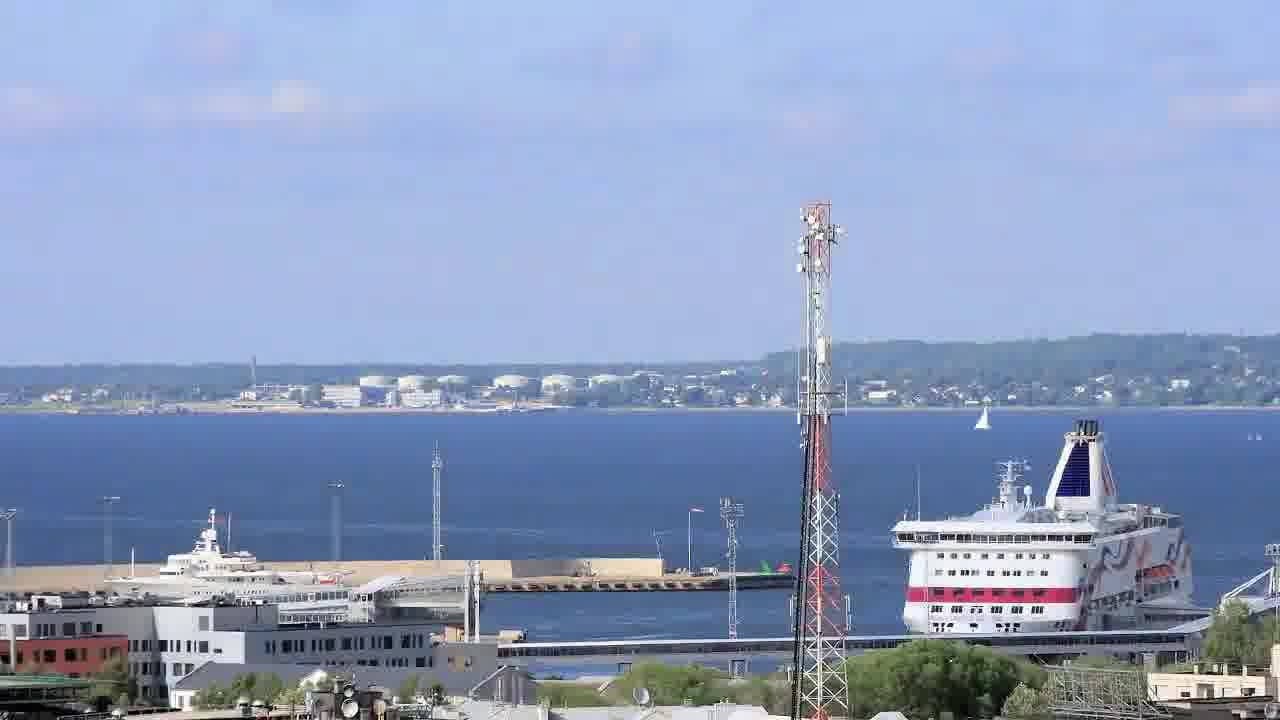type-2: (965, 389, 1011, 437)
type-3: (868, 415, 1225, 638), (84, 511, 353, 609)
